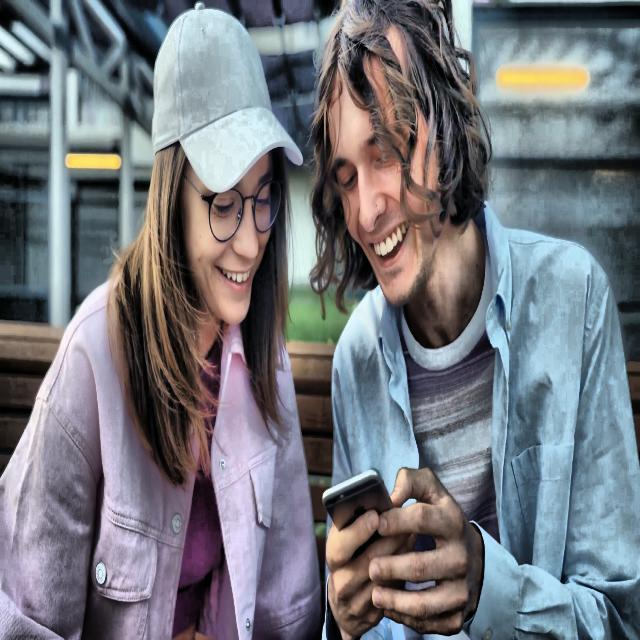Phone: (318, 465, 396, 551)
